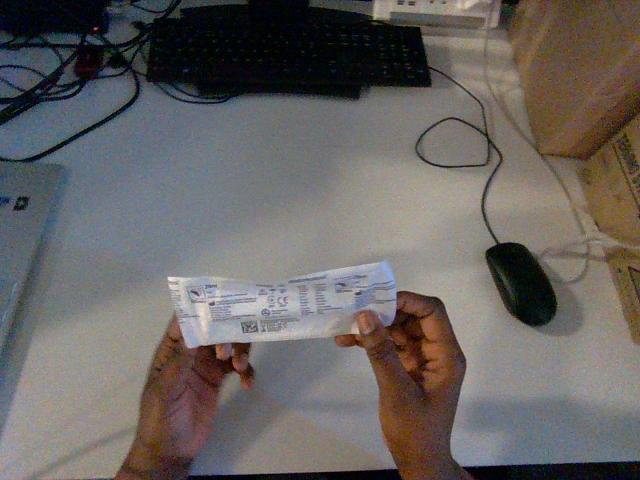syringe: (168, 261, 395, 347)
